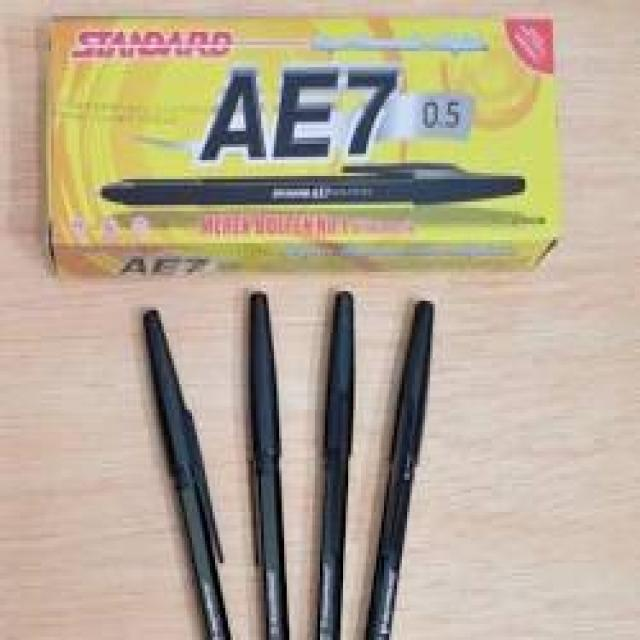alat_tulis: (35, 11, 604, 554)
